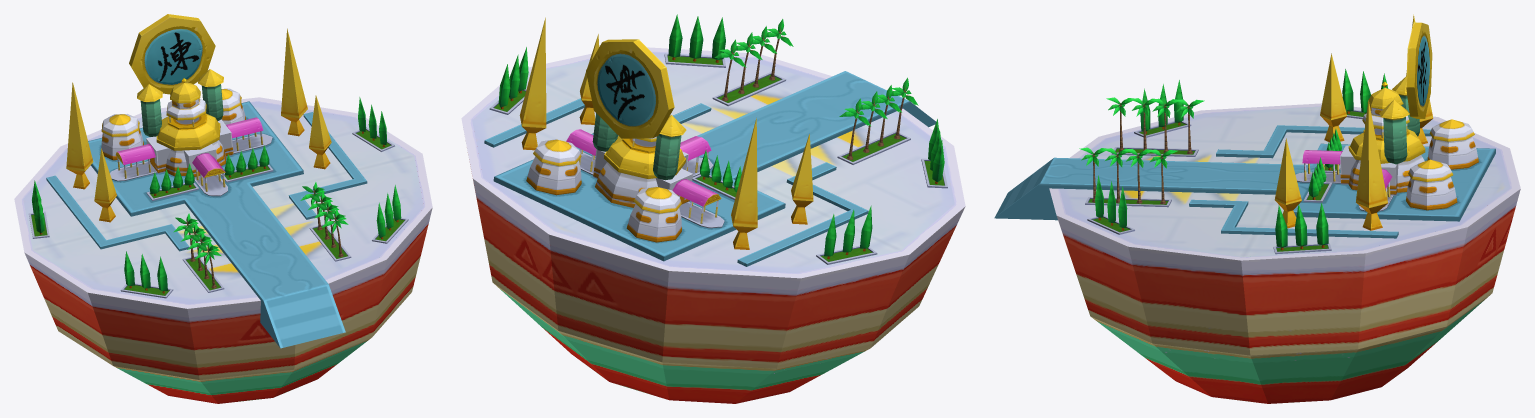
3 views of the same model, side by side, from view 1: azimuth 30°, elevation 25°; view 2: azimuth 150°, elevation 25°; view 3: azimuth 270°, elevation 25° (orthographic). The views are drawn at different scales.
Parts seen in each view (by area): view 1: Object160; view 2: Object160; view 3: Object160.
Part boxes in pixels (x1,y1,x2,y2): Object160: [14, 14, 432, 403]; Object160: [461, 14, 965, 403]; Object160: [994, 14, 1520, 403].
Bounding box in the file's own units: 254 × 215 × 283.
